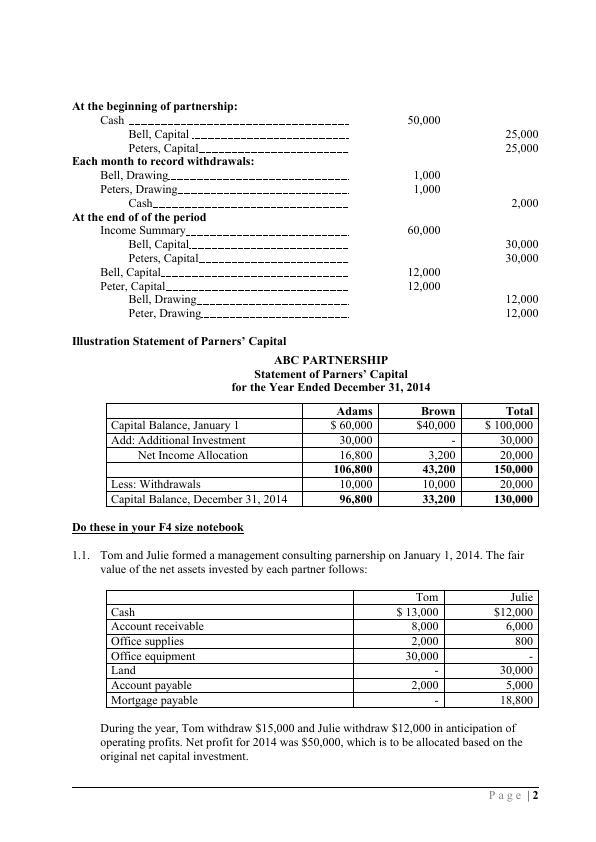table: (102, 586, 544, 714), (102, 400, 544, 512)
text: (65, 95, 546, 327), (68, 520, 530, 579), (97, 720, 527, 764), (230, 351, 435, 394), (67, 332, 291, 348)
